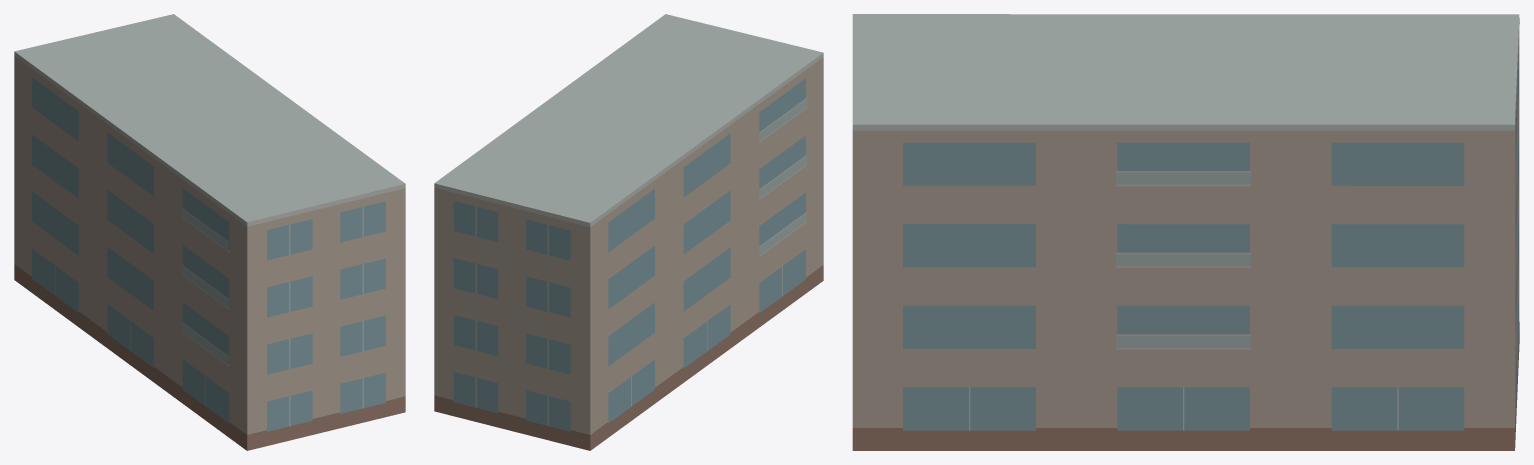
The model's file is survey-upis-32888905.glb.
The picture shows the model from 3 angles, left to right: view 1: azimuth 30°, elevation 25°; view 2: azimuth 150°, elevation 25°; view 3: azimuth 270°, elevation 25°; orthographic projection. The views are drawn at different scales.
Parts seen in each view (by area): view 1: survey-upis-32888905.tmp; view 2: survey-upis-32888905.tmp; view 3: survey-upis-32888905.tmp.
Boxes of the visible parts, x1,y1,x2,y2 form: survey-upis-32888905.tmp: (14, 14, 405, 450); survey-upis-32888905.tmp: (434, 14, 823, 450); survey-upis-32888905.tmp: (852, 14, 1519, 450).
Bounding box in the file's own units: 9.37 × 12.8 × 23.72.
